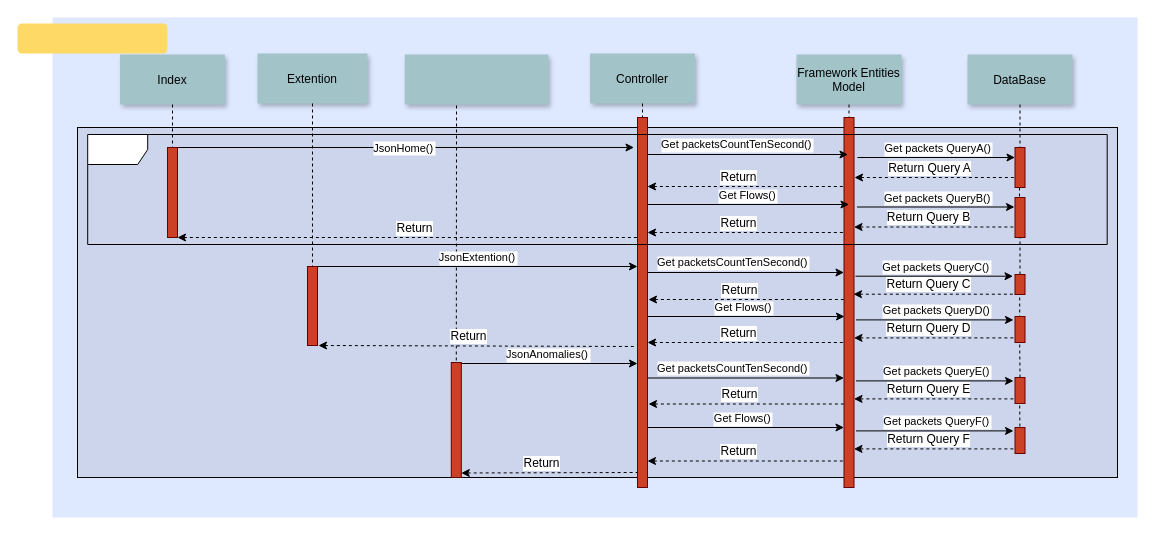
The diagram is 1154 pixels wide and 534 high, and some of its shapes have lost their labels. Each missing label, with the centre of its shape:
Anomalies/Matrix: the point at 477,80
Loop: the point at 597,189
וויזואליזציה: the point at 92,38
